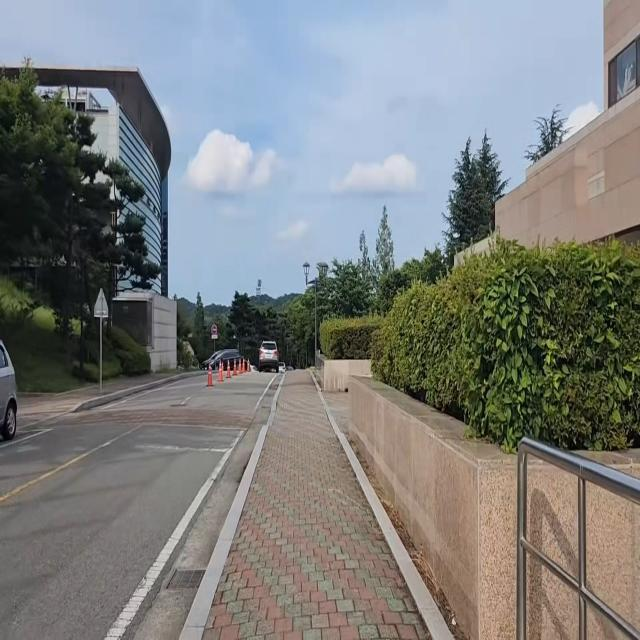obstacle: (0, 320, 24, 450), (256, 333, 283, 376)
road: (0, 370, 282, 640)
sidewalk: (188, 370, 464, 640)
